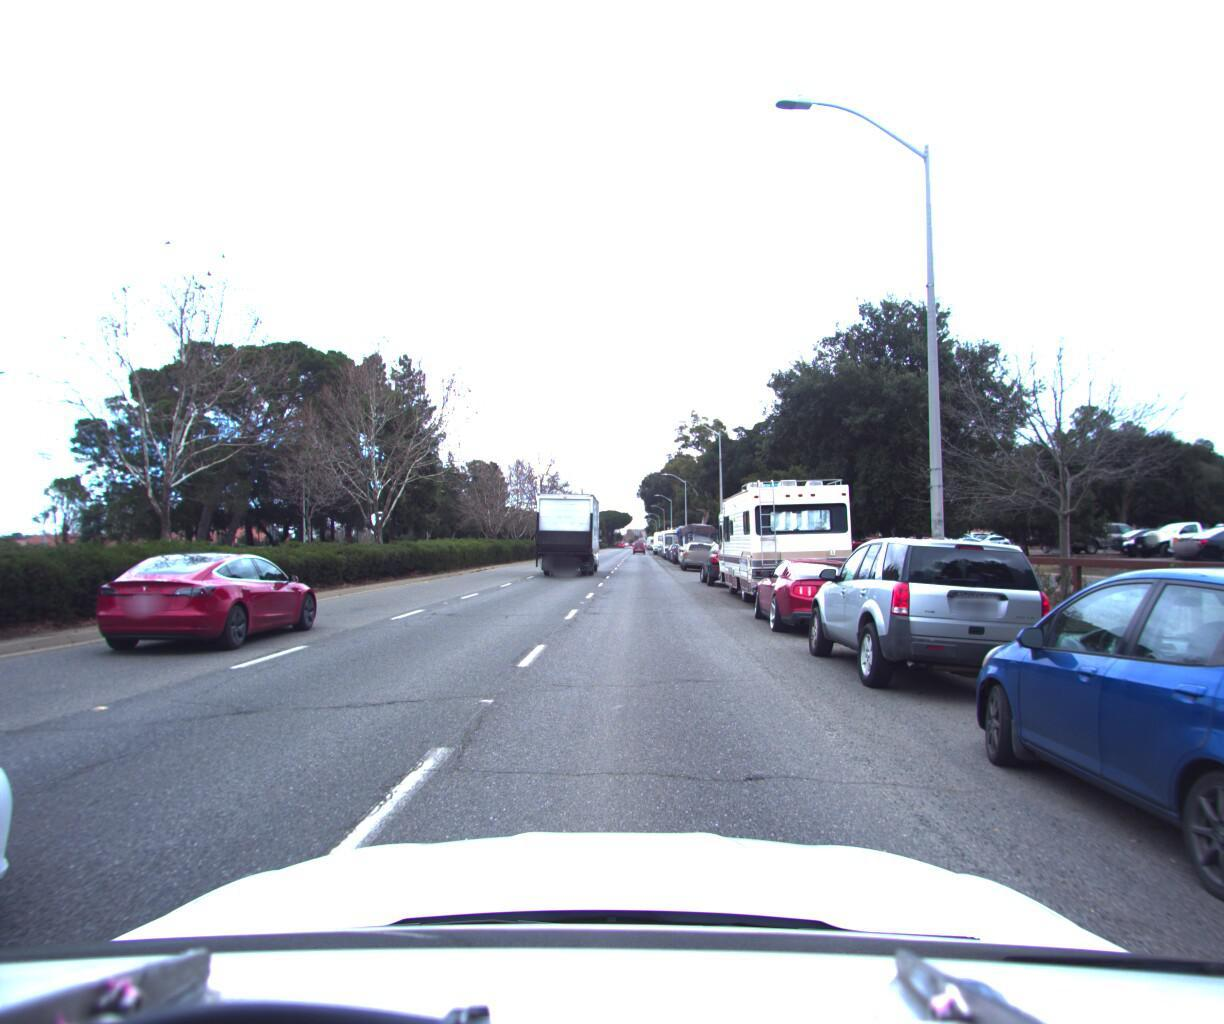car: (940, 538, 1224, 1009), (796, 519, 1075, 710), (87, 536, 327, 653), (748, 544, 897, 640), (699, 531, 764, 585), (679, 534, 717, 567)
other_vehicle: (712, 458, 864, 612), (674, 516, 722, 564), (660, 520, 689, 554)
truck: (526, 474, 605, 574)
